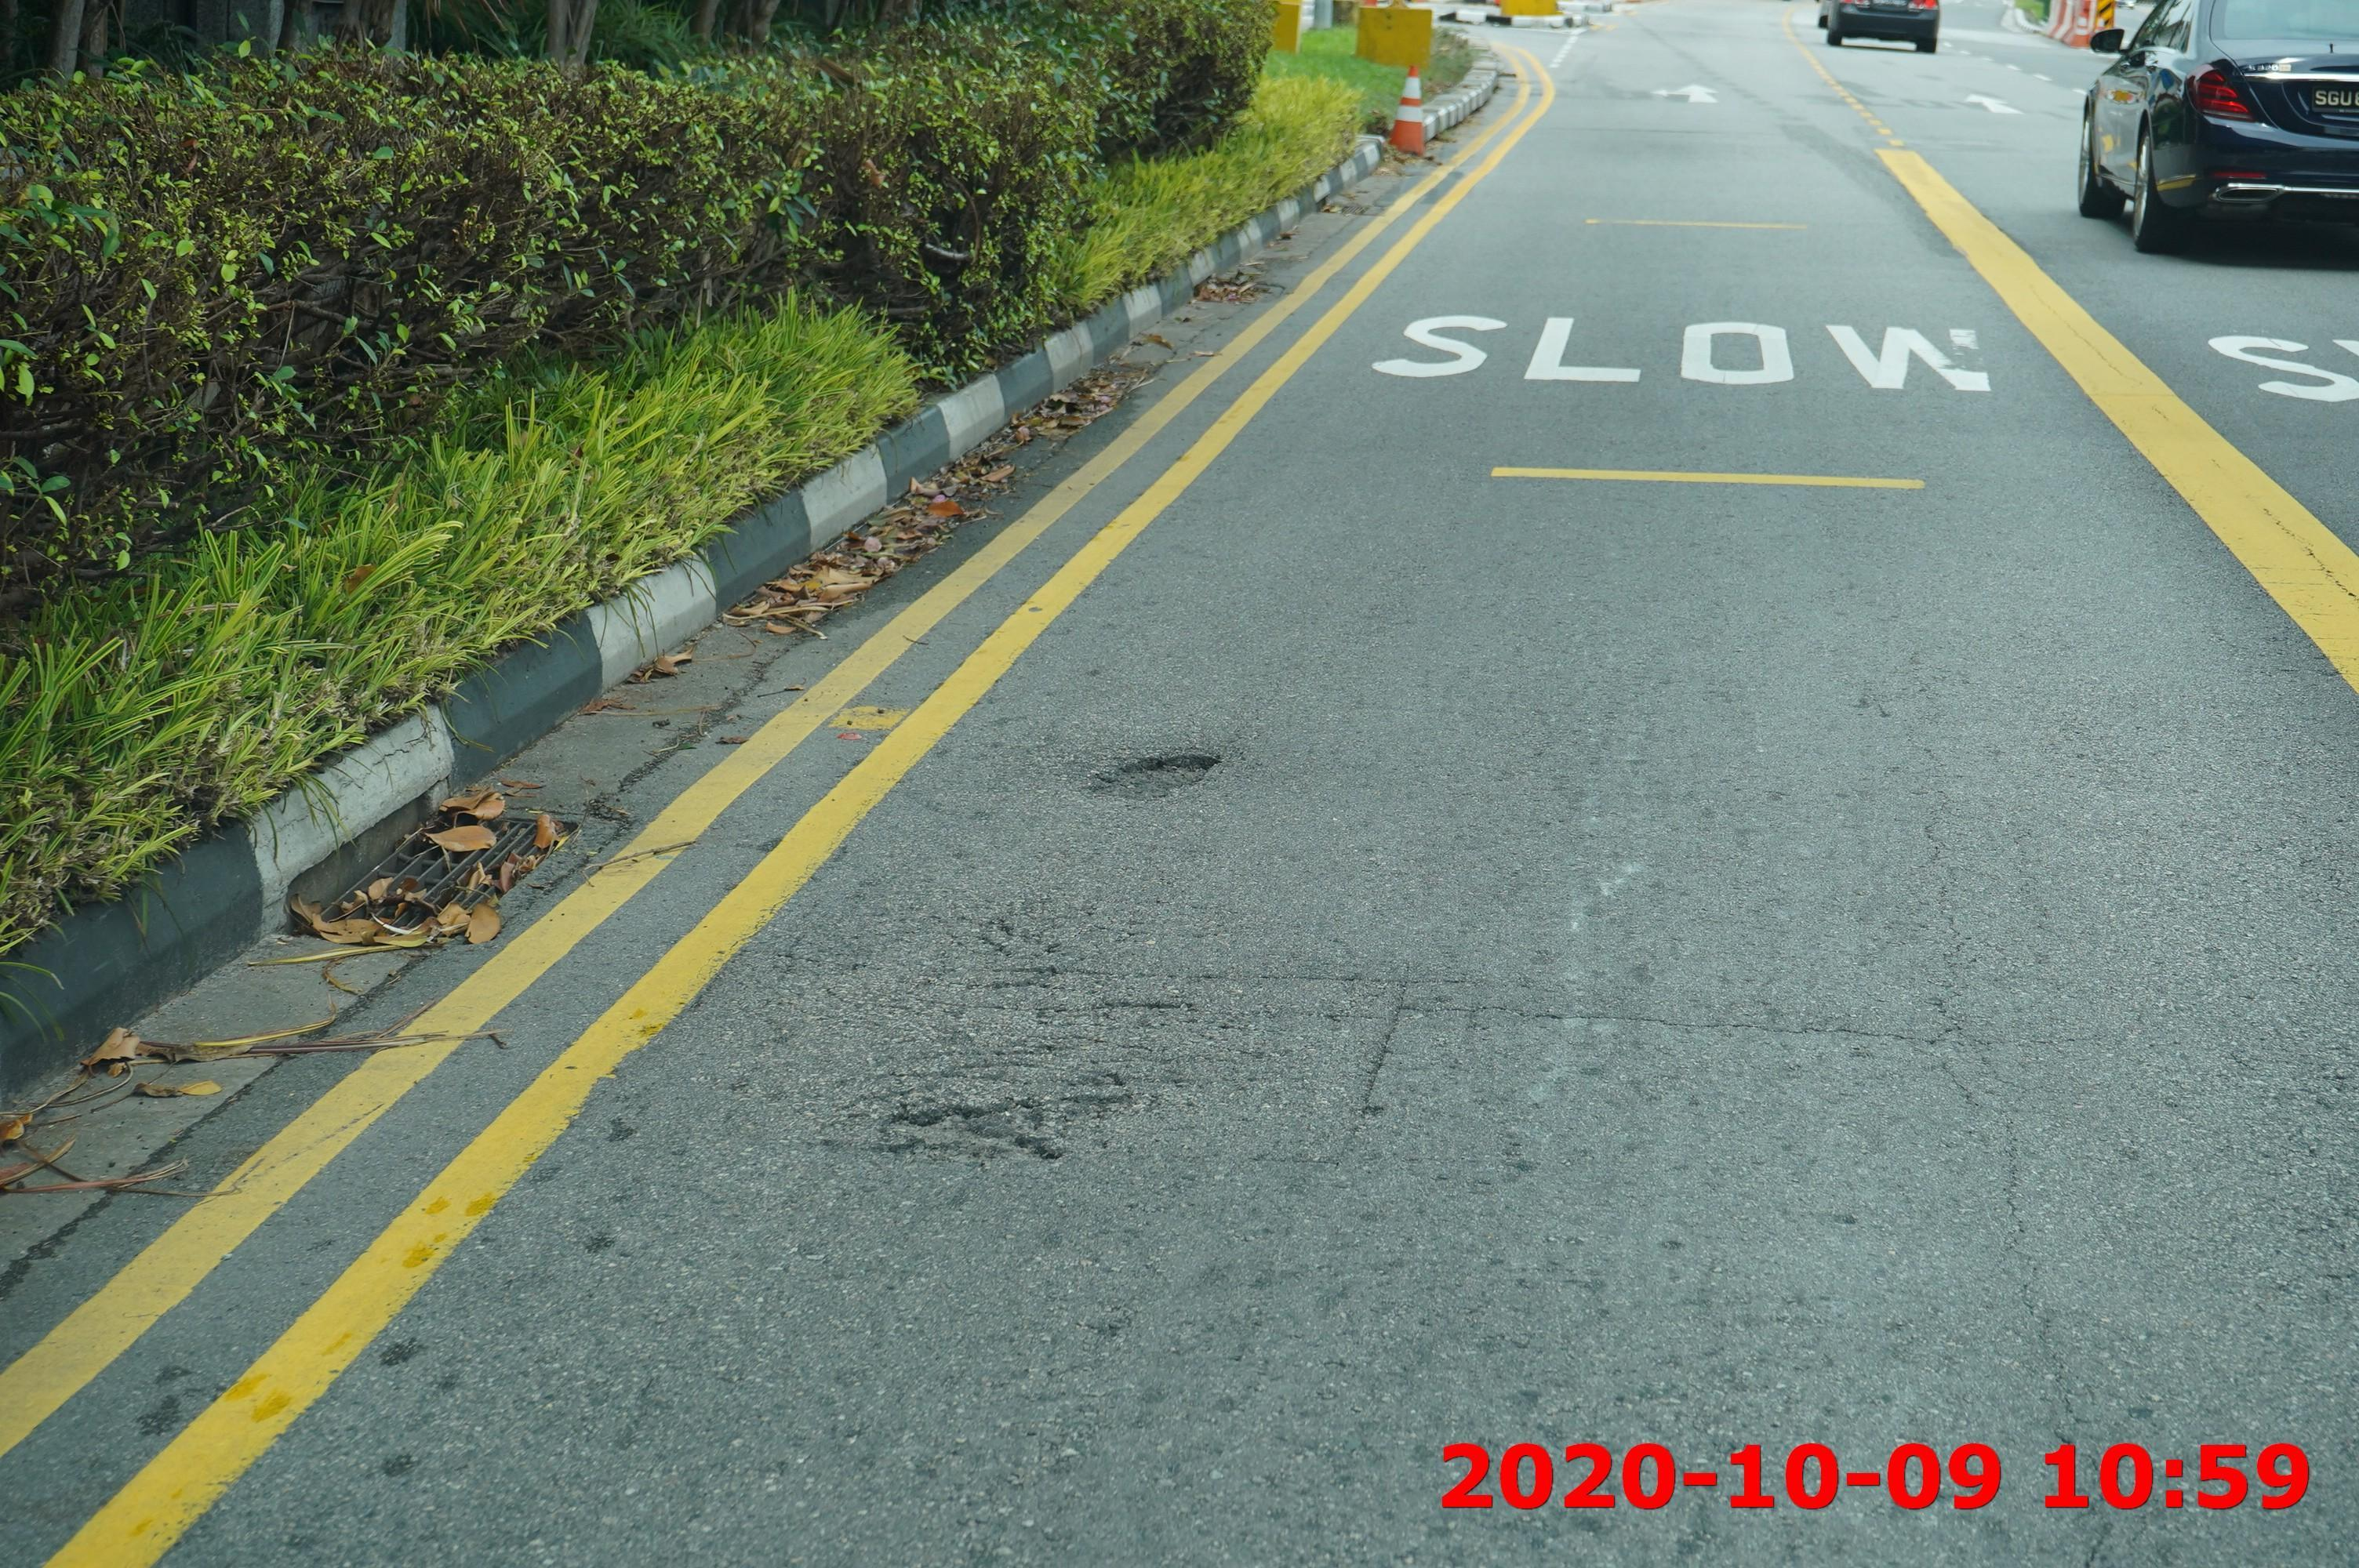peeling off premix: (880, 1085, 1074, 1167), (1076, 732, 1239, 816)
transverse crack: (1360, 970, 1944, 1061)
